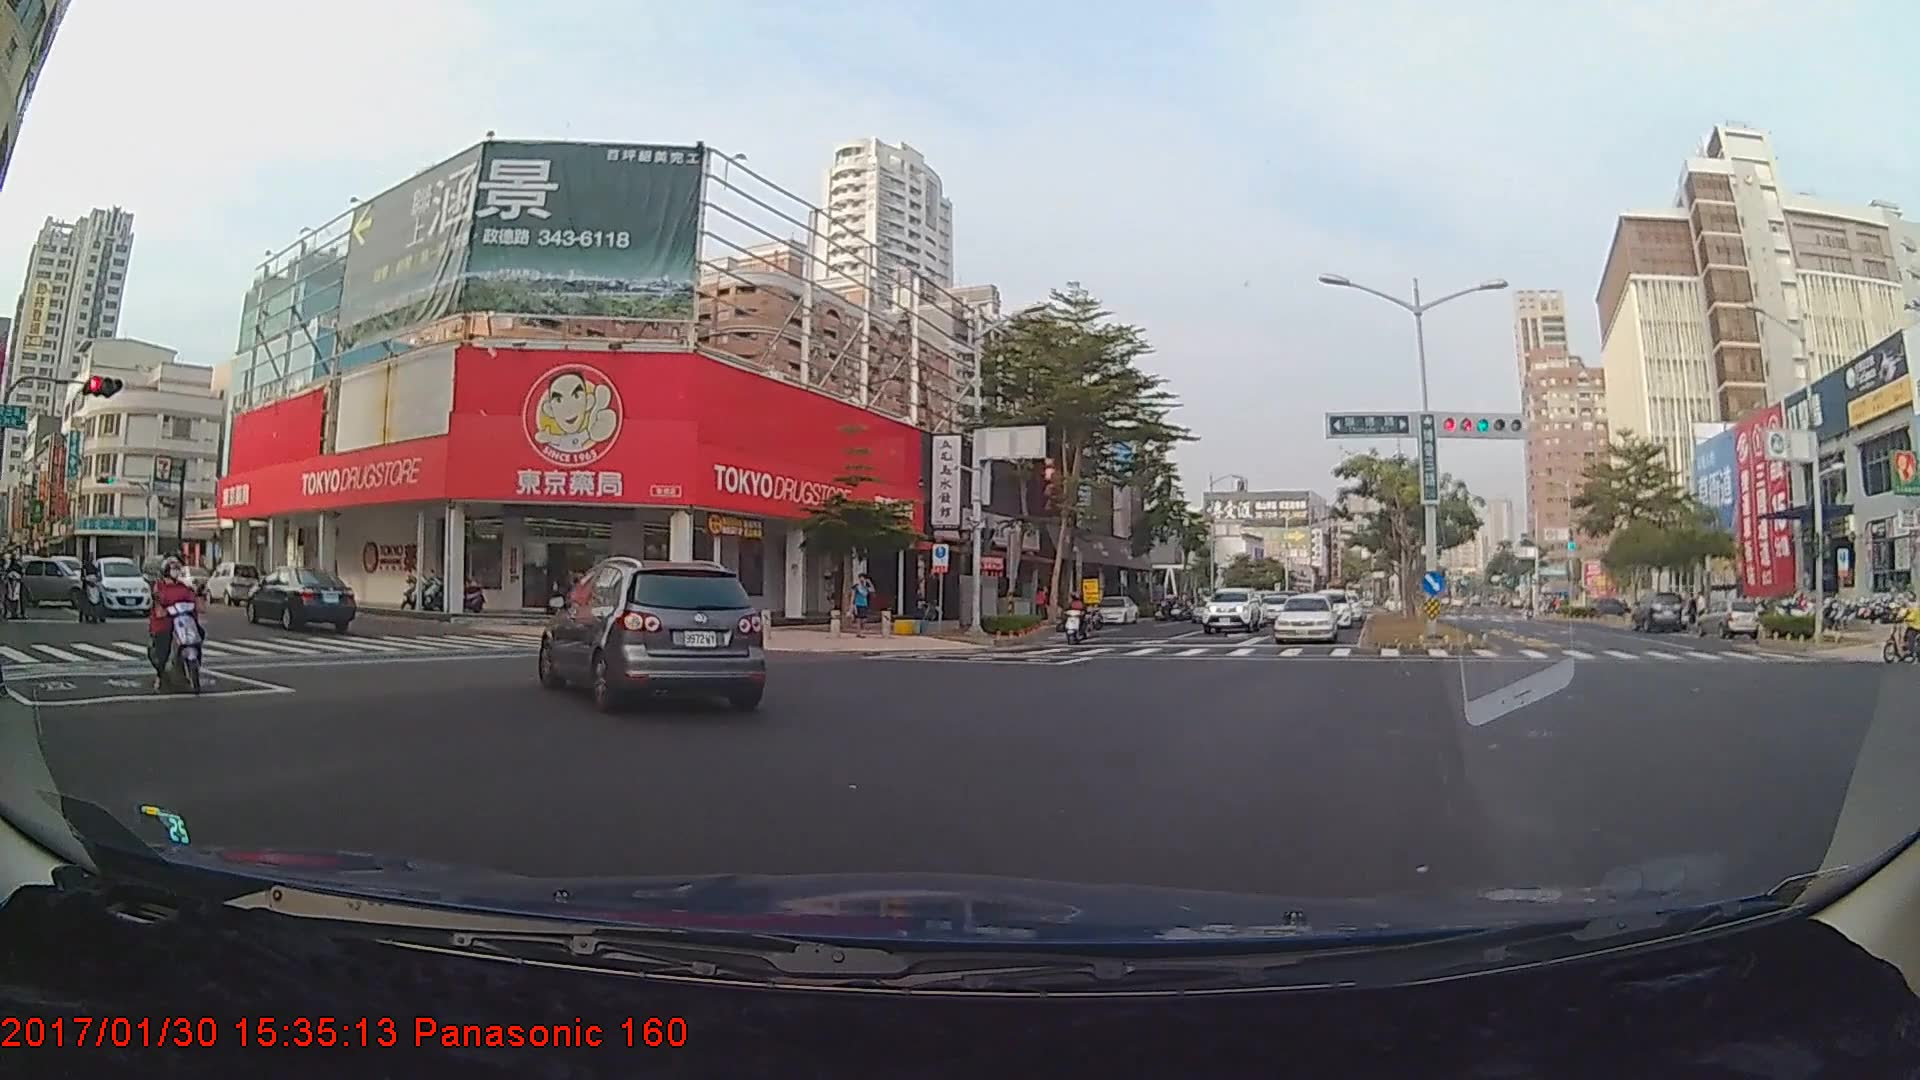pedestrian: (852, 572, 872, 643)
rider: (146, 558, 216, 699), (79, 548, 117, 629), (1062, 587, 1100, 646)
vehicle: (541, 555, 763, 712), (247, 565, 355, 633), (89, 555, 153, 615), (1274, 594, 1336, 643), (1200, 586, 1259, 632), (1627, 589, 1681, 630), (1302, 586, 1352, 629), (1012, 603, 1033, 623)
